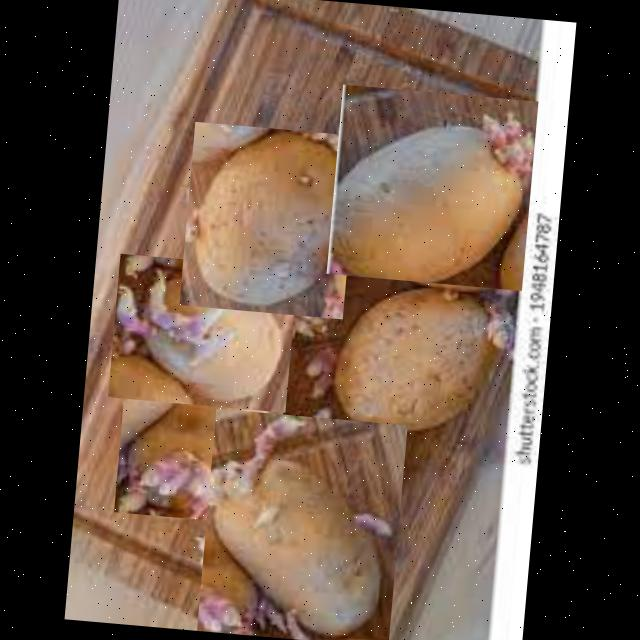Sprouted potato: (196, 407, 407, 640), (326, 83, 538, 290), (319, 255, 540, 448), (179, 120, 358, 318), (108, 253, 298, 412), (113, 380, 284, 524)
